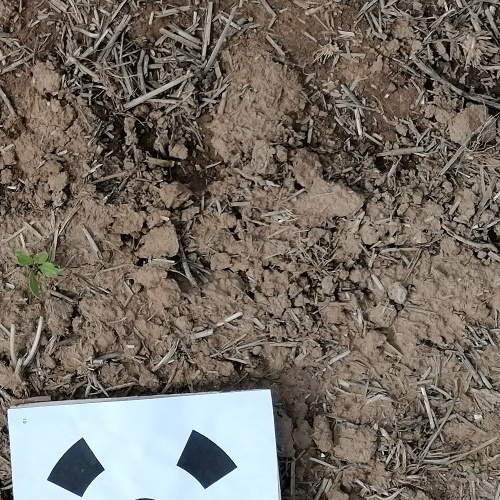beet: (17, 250, 61, 300)
